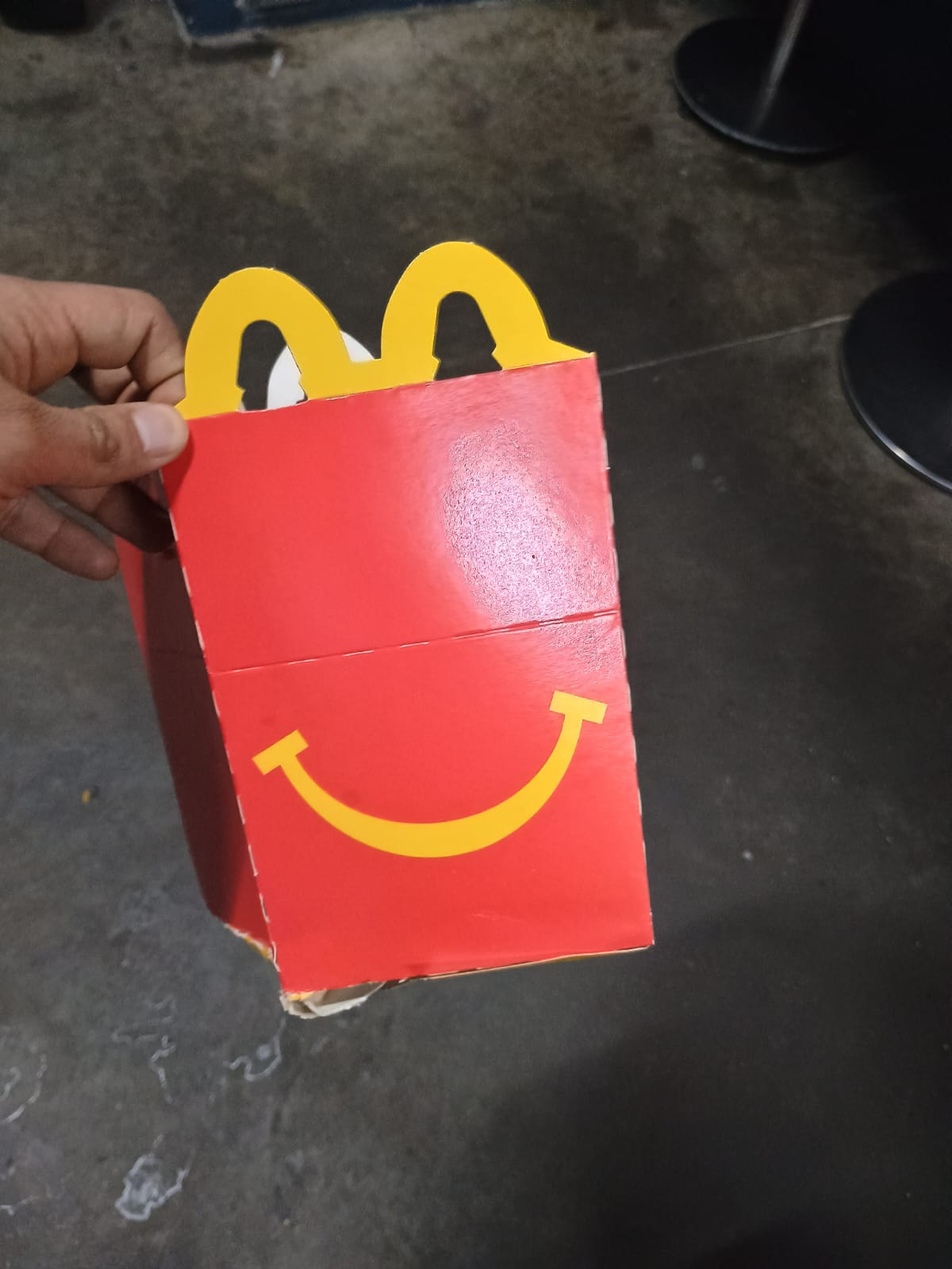Carton: (106, 237, 659, 1002)
